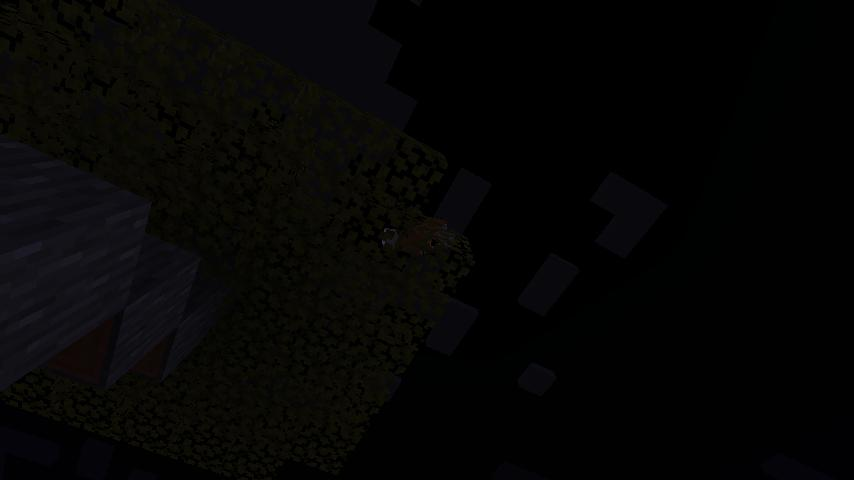fox: (373, 210, 467, 272)
